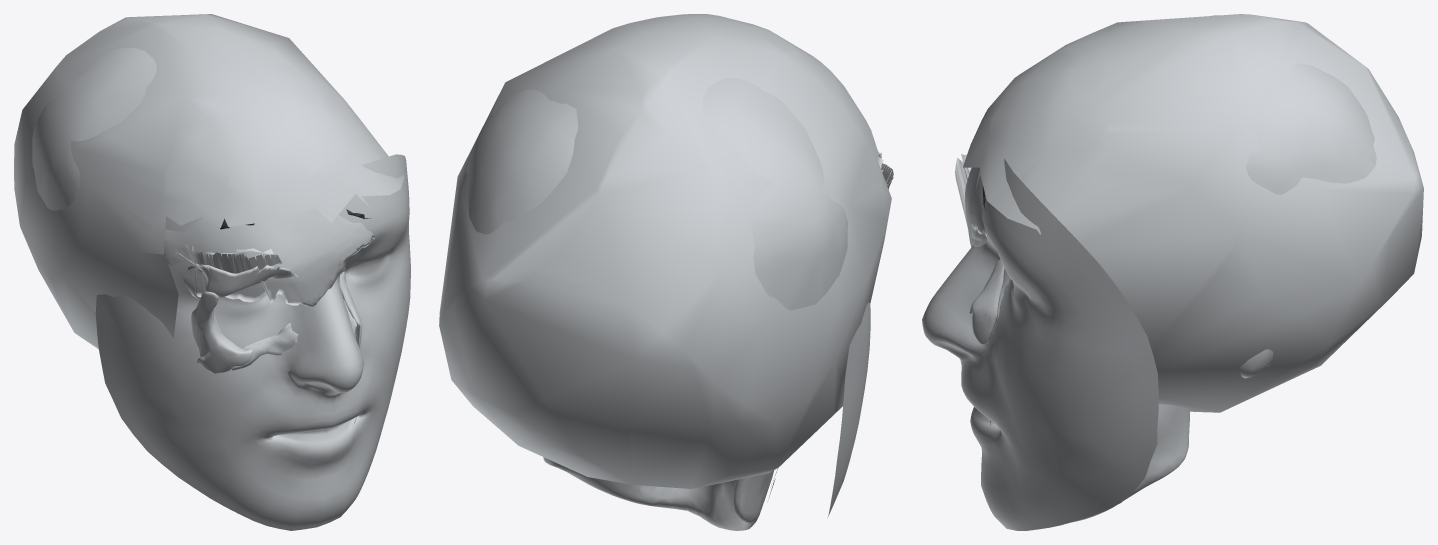
The model's file is anatomy.glb.
3 renders of one model, left to right at view 1: azimuth 30°, elevation 25°; view 2: azimuth 150°, elevation 25°; view 3: azimuth 270°, elevation 25°, orthographic. The views are drawn at different scales.
Parts seen in each view (by area): view 1: shell, frontal, parietal, zygomatic, maxilla, nasal; view 2: shell, parietal, mandible; view 3: shell, parietal, mandible, frontal, nasal.
Part boxes in pixels (box(x1,y1,x2,y2)): shell: box(14, 14, 410, 530); frontal: box(164, 208, 374, 307); parietal: box(32, 47, 156, 210); zygomatic: box(191, 291, 252, 373); maxilla: box(232, 271, 346, 370); nasal: box(339, 273, 361, 347); shell: box(439, 14, 891, 517); parietal: box(466, 77, 847, 310); mandible: box(543, 457, 773, 530); shell: box(922, 14, 1423, 530); parietal: box(1212, 15, 1376, 194); mandible: box(1072, 404, 1190, 522); frontal: box(955, 154, 987, 247); nasal: box(969, 259, 1004, 343).
Size of the model in its own units: 16.65 by 22.16 by 21.05.
Materials: 1 (1 with a texture image).
